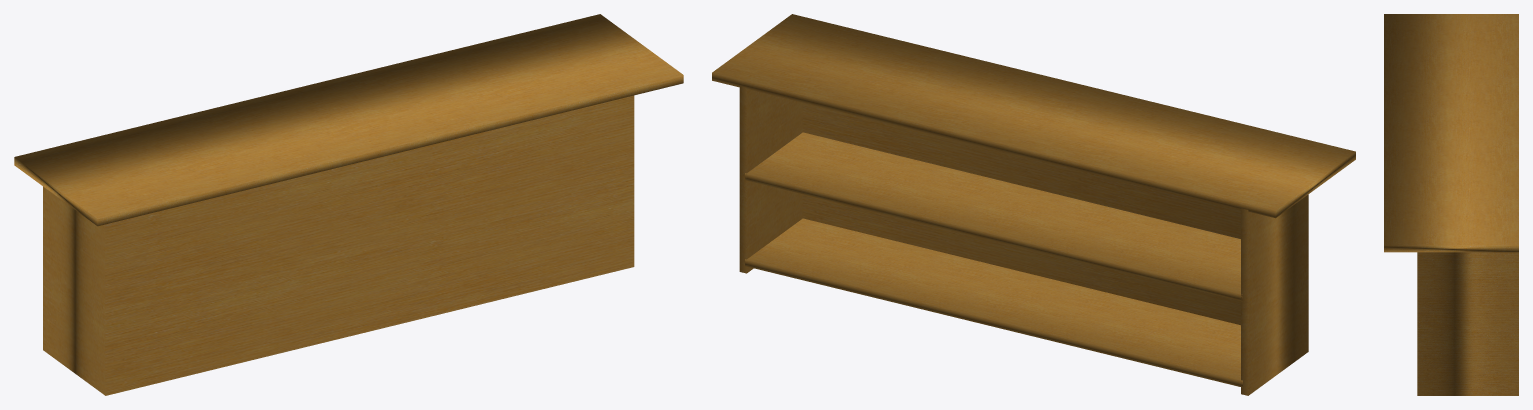
Rendered from ShopCounter.fbx.
3 views of the same model, side by side, from view 1: azimuth 30°, elevation 25°; view 2: azimuth 150°, elevation 25°; view 3: azimuth 270°, elevation 25° (orthographic). The views are drawn at different scales.
Parts seen in each view (by area): view 1: Cube; view 2: Cube; view 3: Cube.
Boxes of the visible parts, bbox=[...] form: Cube: bbox=[14, 14, 683, 395]; Cube: bbox=[712, 14, 1355, 395]; Cube: bbox=[1384, 14, 1518, 395].
Size of the model in its own units: 2.22 by 0.723 by 0.5458.
